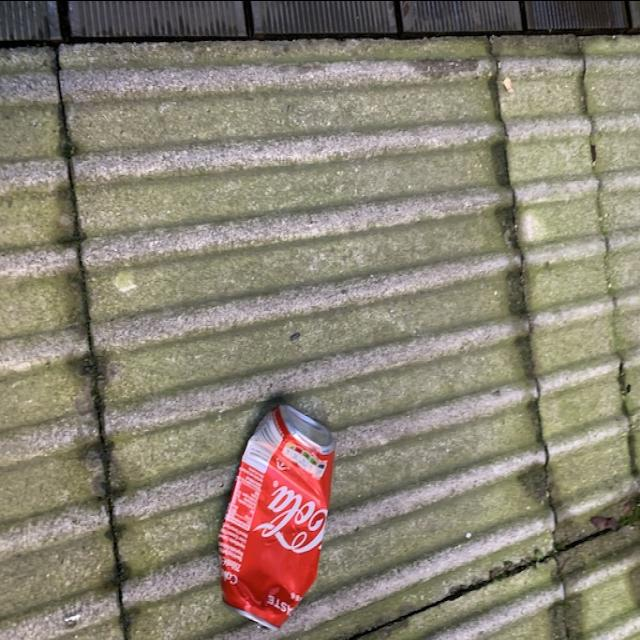litter: (220, 393, 344, 635)
